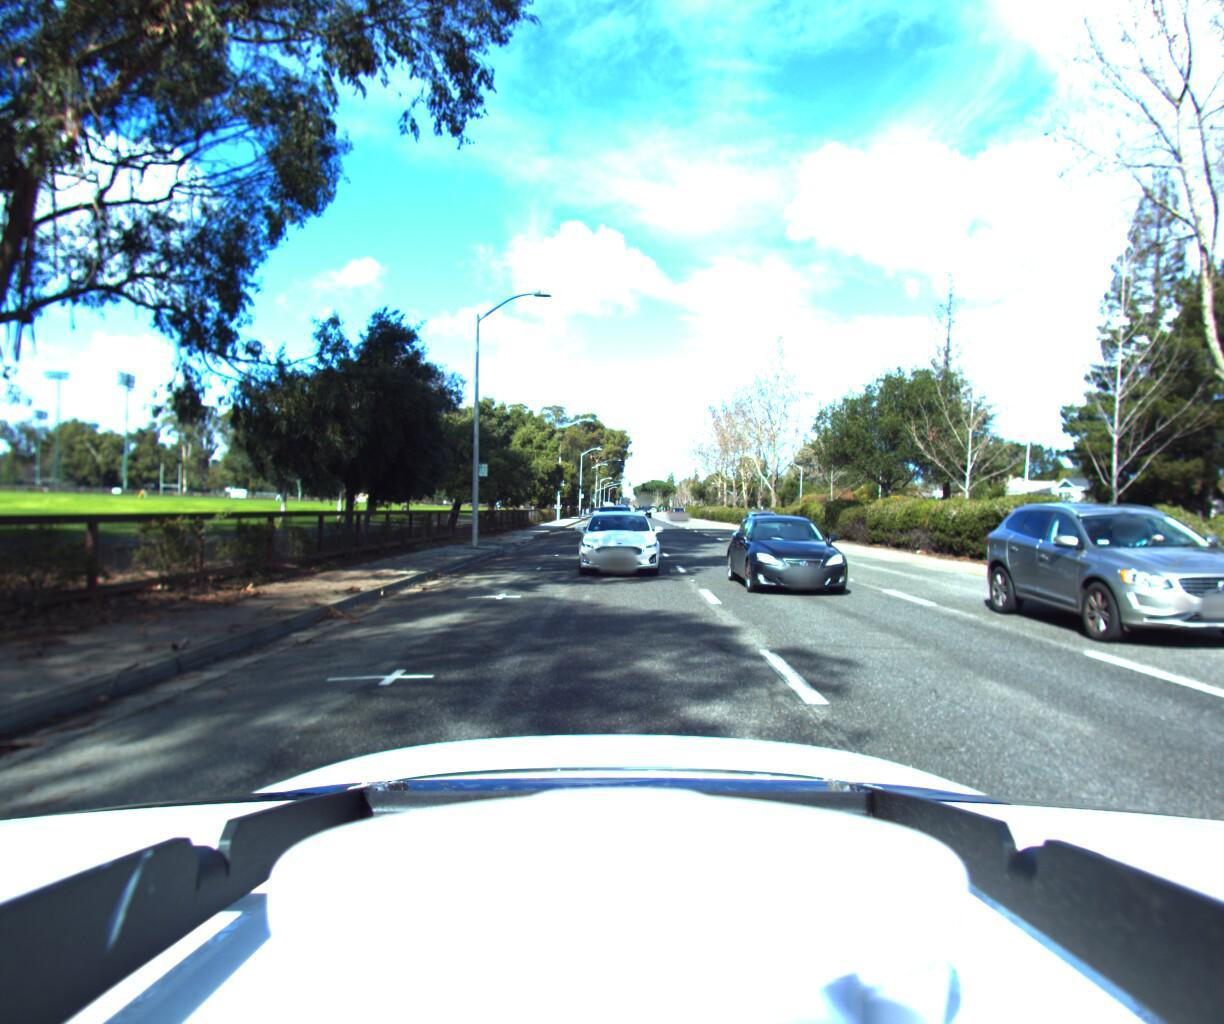car: (1019, 492, 1224, 687), (727, 515, 883, 610), (571, 509, 663, 579)
